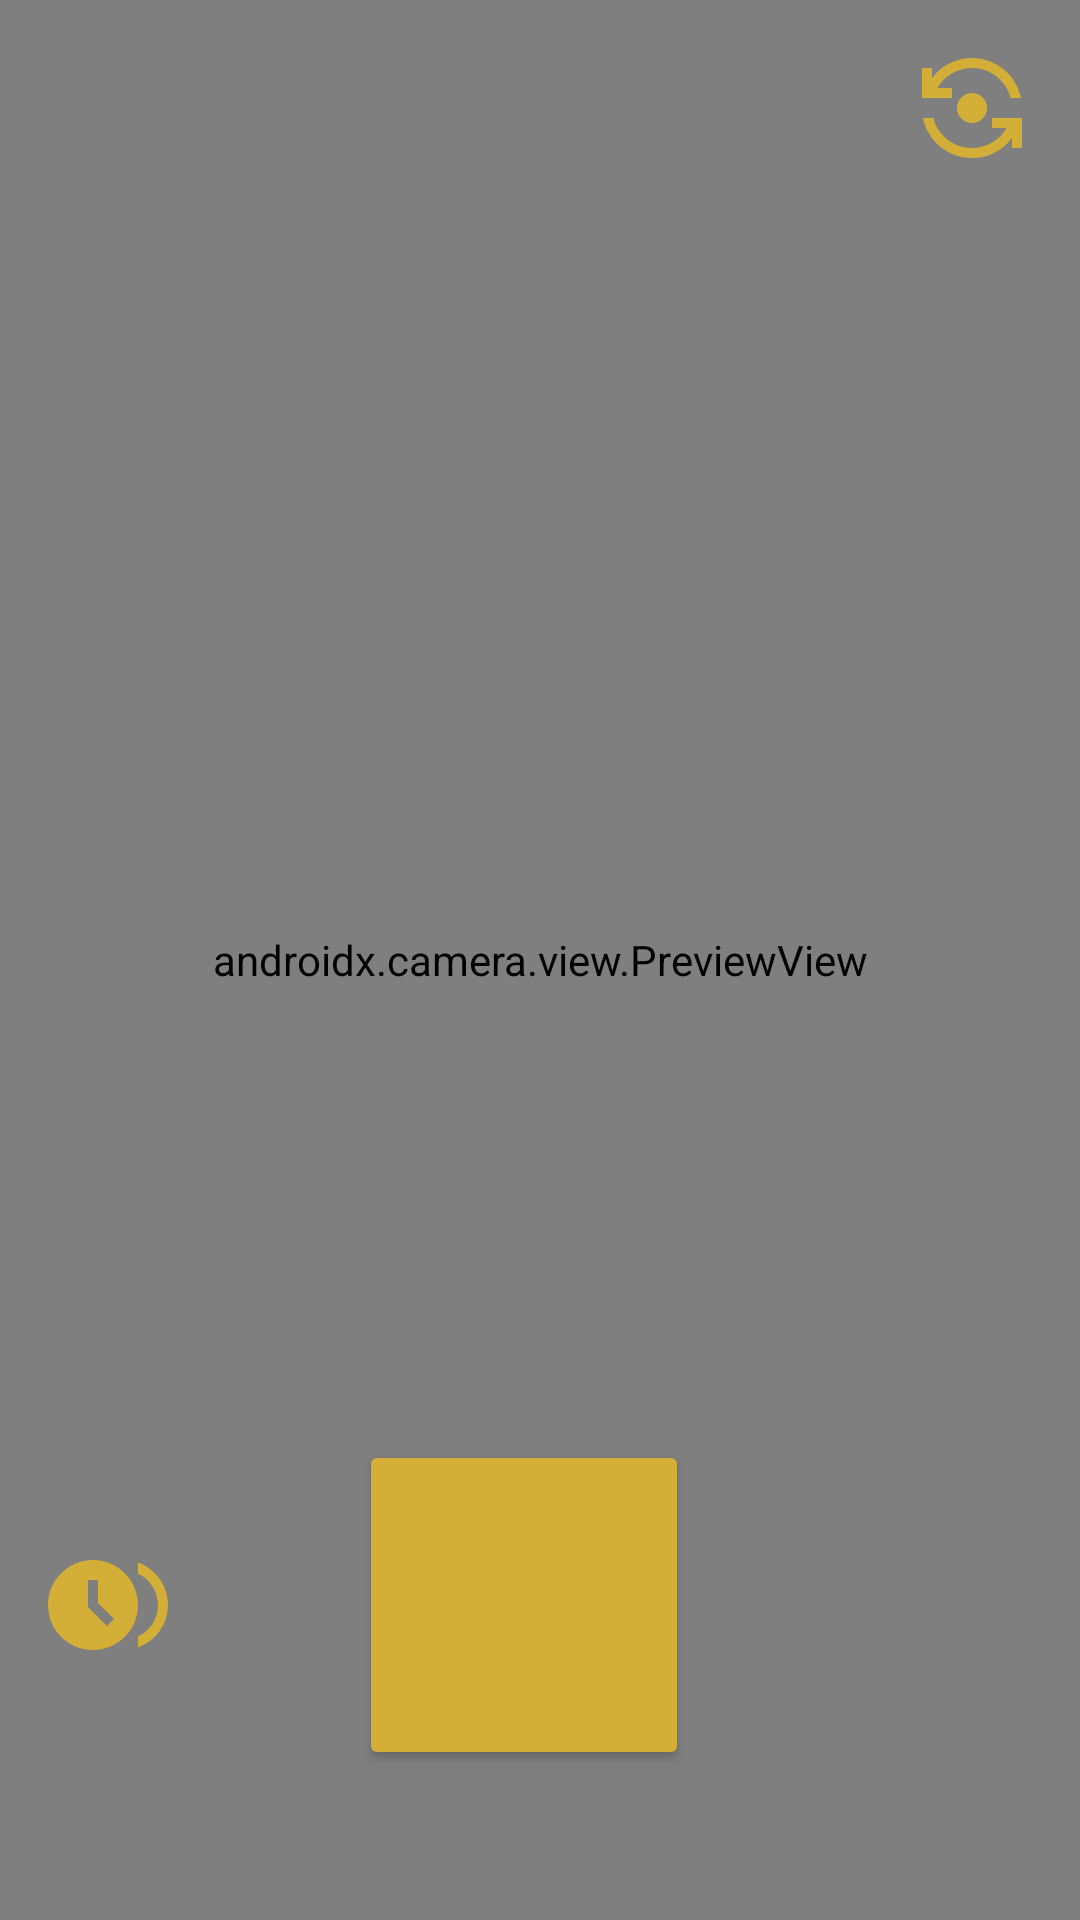

Named icons in this screenshot (1080w x 1920h) and their centers, (x,y):
browse gallery: (108,1605)
flip camera android: (972,108)
